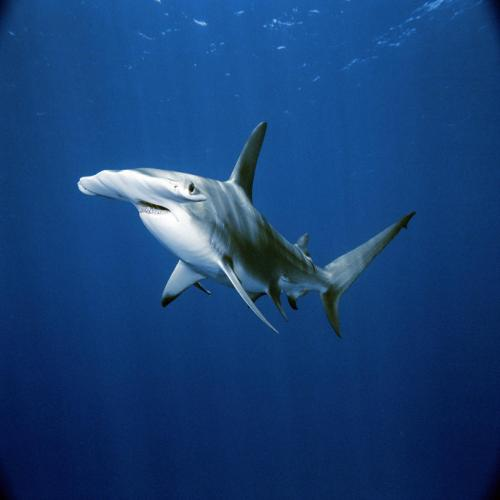shark-endangered: (78, 122, 418, 344)
